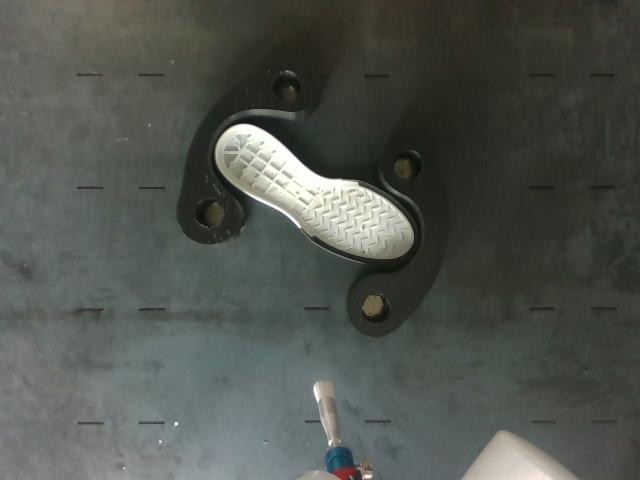shoes: (217, 126, 419, 267)
